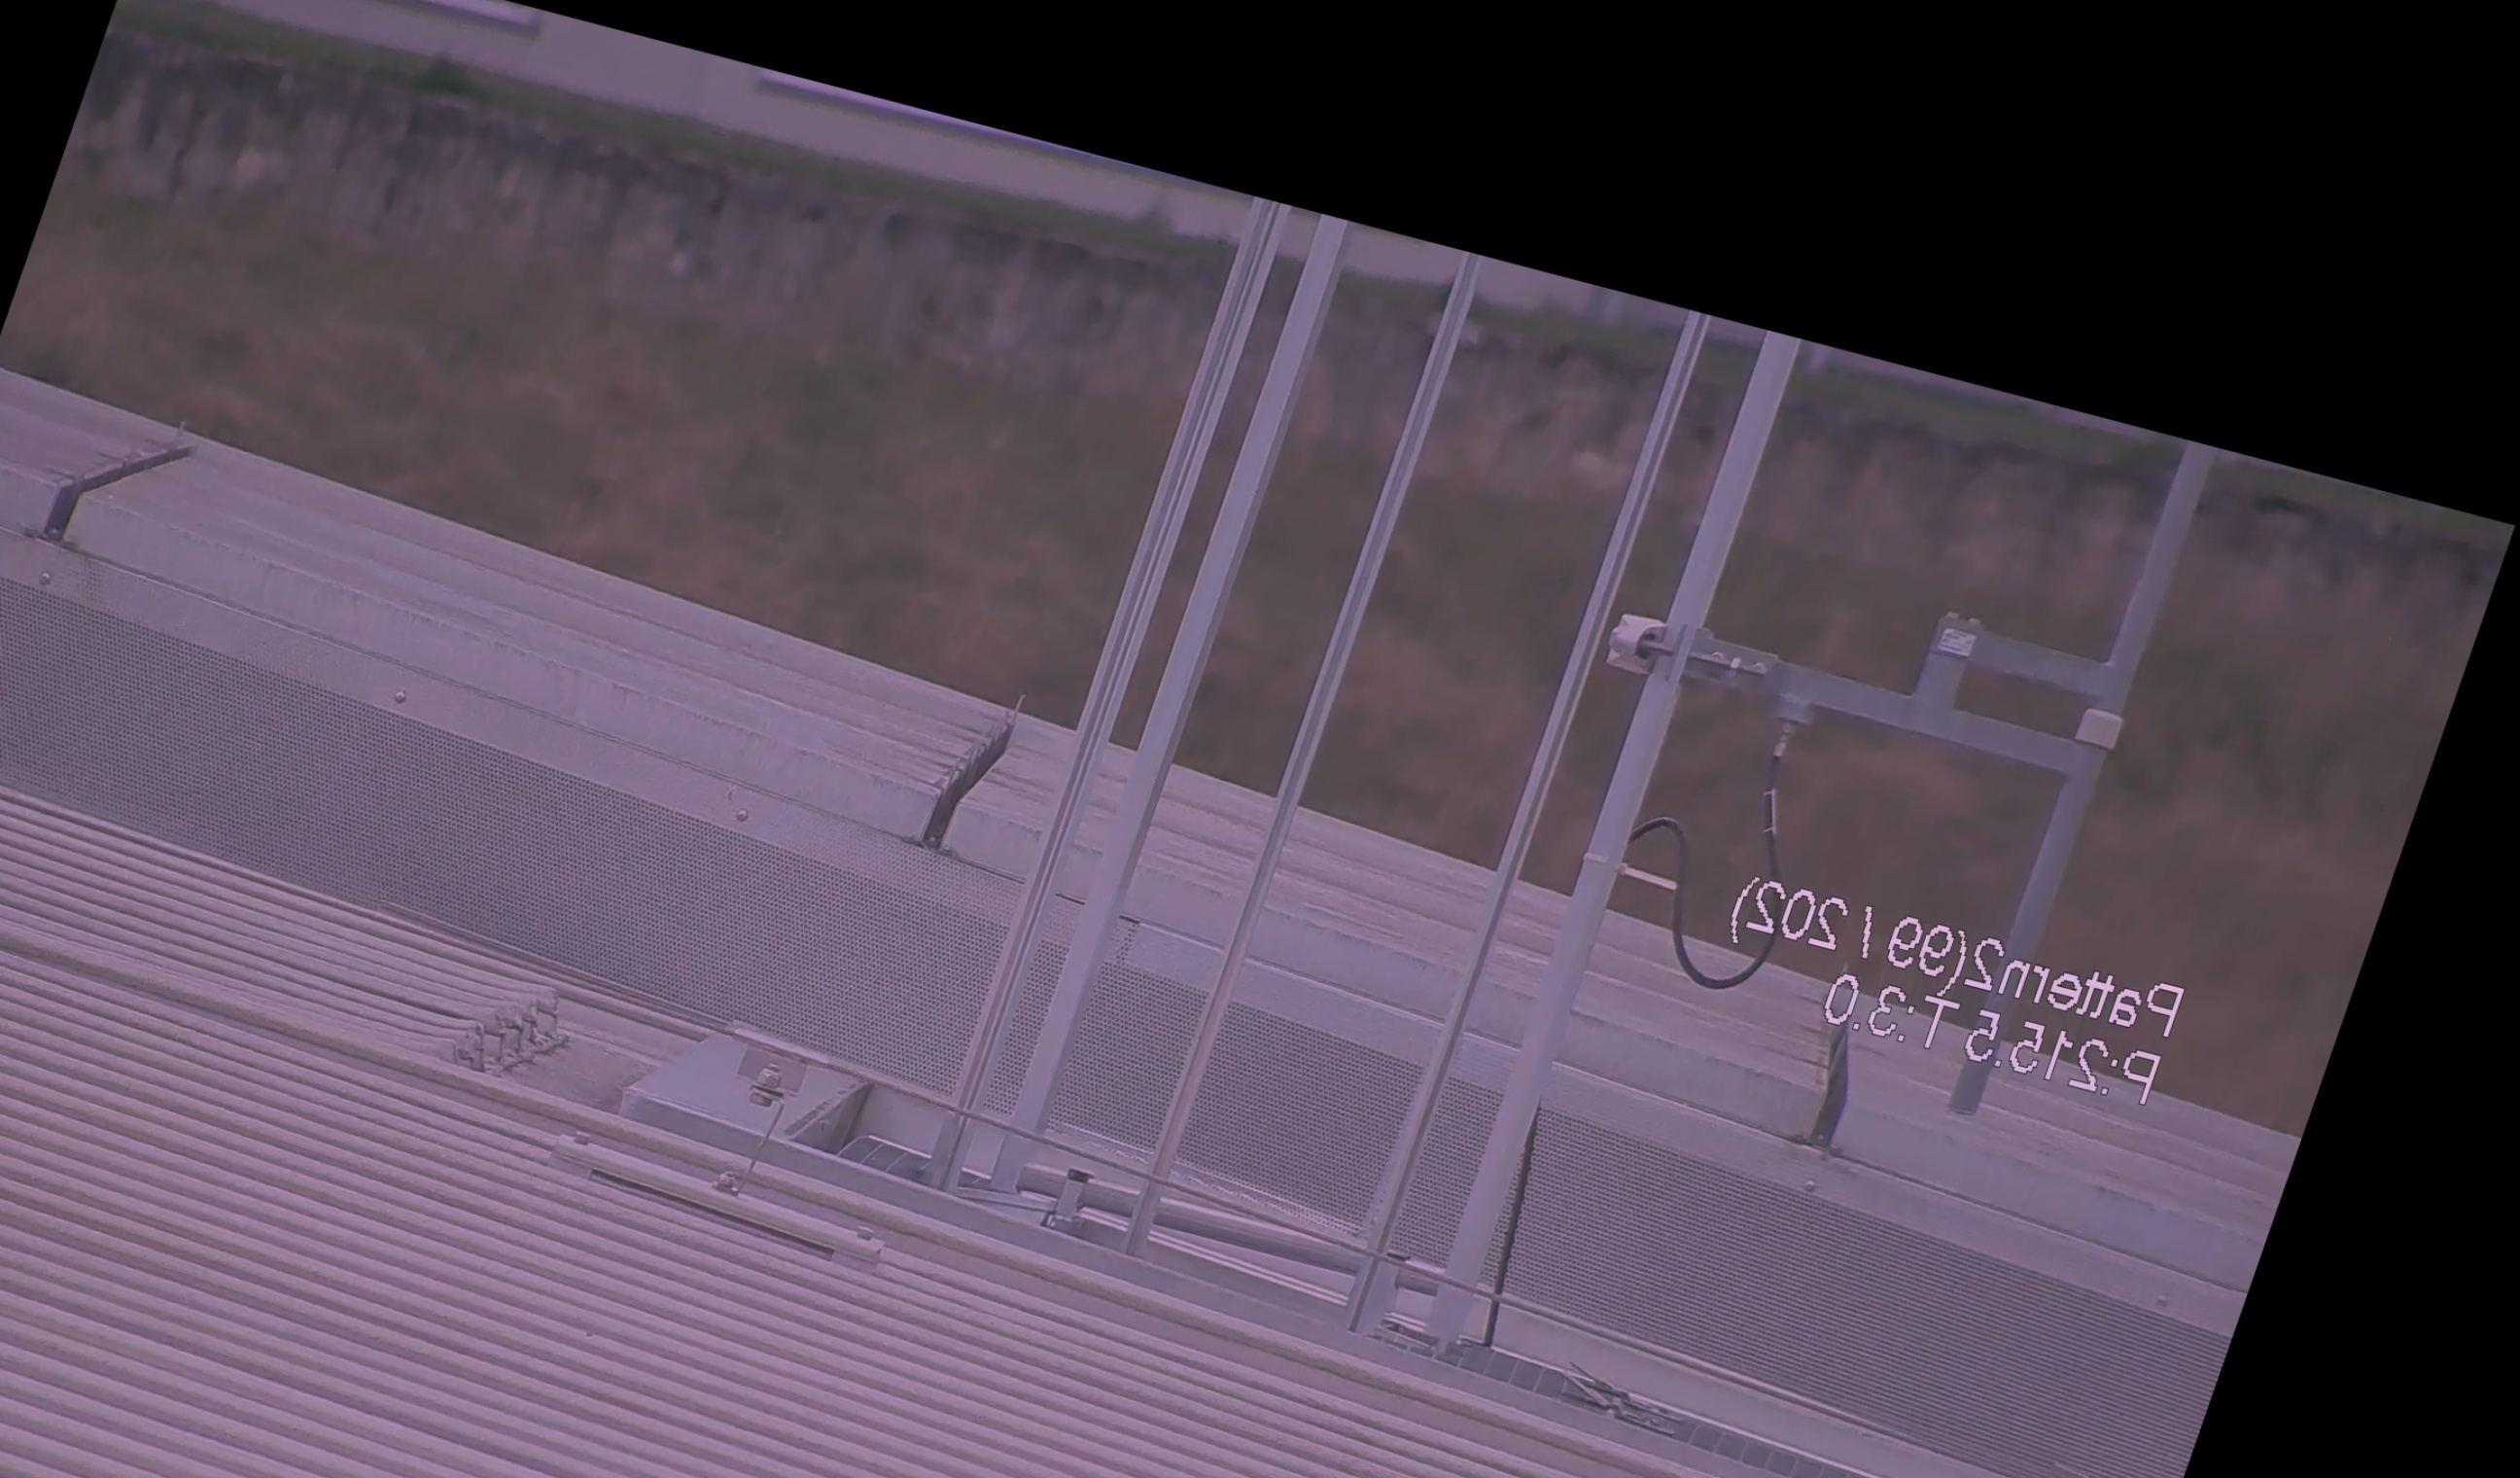Other: (892, 672, 1045, 866)
